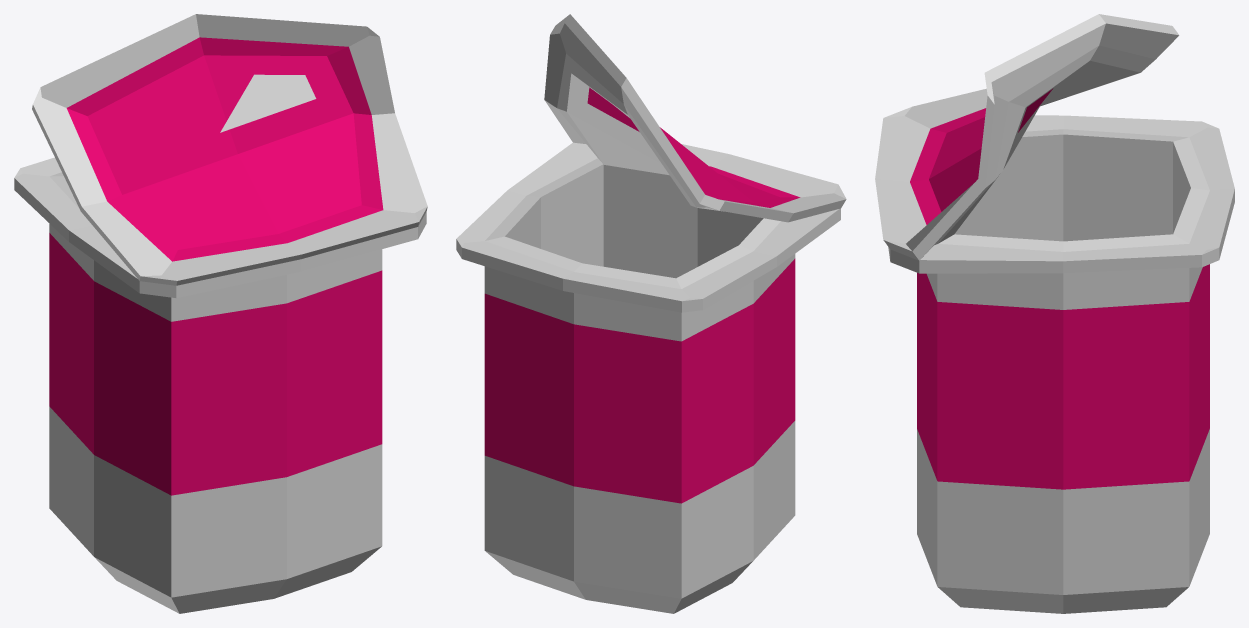
File: pot_yaourt_fraise.fbx
3 renders of one model, left to right at view 1: azimuth 30°, elevation 25°; view 2: azimuth 150°, elevation 25°; view 3: azimuth 270°, elevation 25°, orthographic. The views are drawn at different scales.
Visible parts, largest first — view 1: pot_yaoourt, opercule; view 2: pot_yaoourt, opercule; view 3: pot_yaoourt, opercule.
Part boxes in pixels (bbox=[...]): pot_yaoourt: bbox=[14, 157, 426, 613]; opercule: bbox=[32, 14, 427, 285]; pot_yaoourt: bbox=[456, 142, 840, 613]; opercule: bbox=[544, 14, 846, 222]; pot_yaoourt: bbox=[888, 115, 1234, 613]; opercule: bbox=[875, 14, 1179, 260].
Size of the model in its own units: 100 by 175 by 104.
